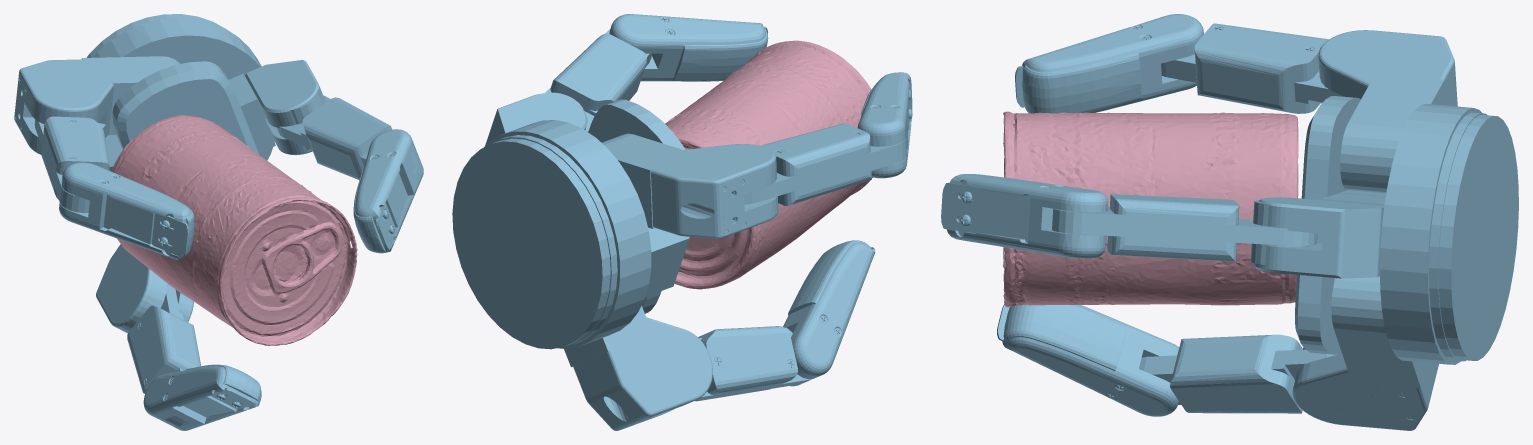
The picture shows the model from 3 angles, left to right: view 1: azimuth 30°, elevation 25°; view 2: azimuth 150°, elevation 25°; view 3: azimuth 270°, elevation 25°; orthographic projection. The views are drawn at different scales.
Visible parts, largest first — view 1: world, tomato_soup_can.stl; view 2: world, tomato_soup_can.stl; view 3: world, tomato_soup_can.stl.
Boxes of the visible parts, x1,y1,x2,y2 form: world: (14, 14, 423, 430); tomato_soup_can.stl: (111, 115, 357, 345); world: (452, 14, 912, 430); tomato_soup_can.stl: (665, 40, 872, 289); world: (941, 14, 1518, 430); tomato_soup_can.stl: (1003, 111, 1298, 307).
Bounding box in the file's own units: 0.1598 × 0.1376 × 0.1992.
